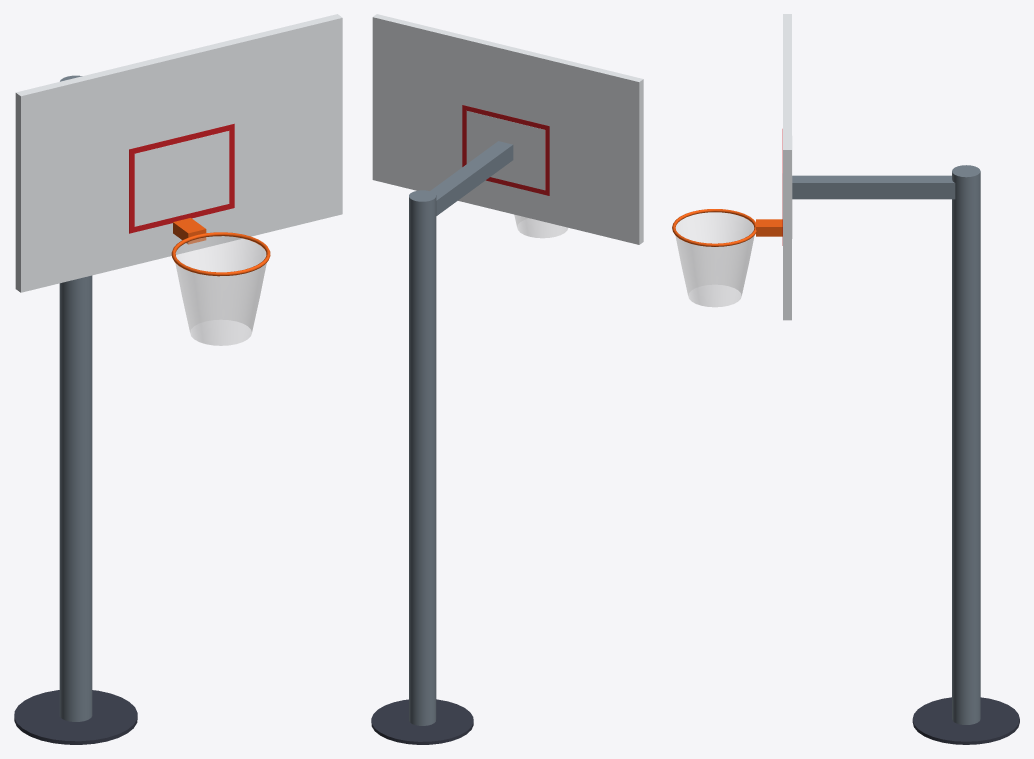
The model's file is prs-012.glb.
3 renders of one model, left to right at view 1: azimuth 30°, elevation 25°; view 2: azimuth 150°, elevation 25°; view 3: azimuth 270°, elevation 25°, orthographic. The views are drawn at different scales.
Parts seen in each view (by area): view 1: white, prison_steel, goal_net, dark_steel, accent_red, rim_orange; view 2: white, prison_steel, dark_steel, accent_red, goal_net; view 3: prison_steel, goal_net, dark_steel, white, rim_orange.
Boxes of the visible parts, left/top/right/bottom form: white: left=15, top=14, right=342, bottom=292; prison_steel: left=59, top=75, right=92, bottom=721; goal_net: left=175, top=236, right=266, bottom=345; dark_steel: left=14, top=690, right=137, bottom=744; accent_red: left=129, top=123, right=234, bottom=233; rim_orange: left=171, top=218, right=270, bottom=276; white: left=372, top=14, right=643, bottom=244; prison_steel: left=409, top=141, right=513, bottom=725; dark_steel: left=371, top=699, right=473, bottom=744; accent_red: left=462, top=105, right=549, bottom=195; goal_net: left=514, top=215, right=567, bottom=237; prison_steel: left=792, top=165, right=980, bottom=724; goal_net: left=675, top=212, right=754, bottom=306; dark_steel: left=912, top=697, right=1019, bottom=744; white: left=783, top=14, right=792, bottom=320; rim_orange: left=672, top=209, right=782, bottom=246.
Bounding box in the file's own units: 1.8 × 3.95 × 1.94.
